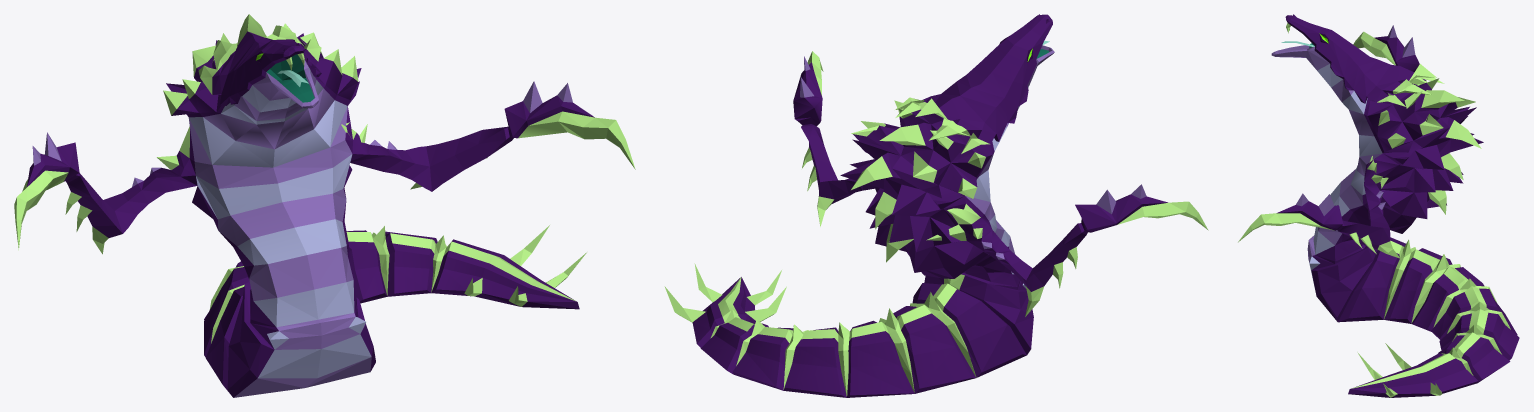
The model's file is Attack (23).obj.
The picture shows the model from 3 angles, left to right: view 1: azimuth 30°, elevation 25°; view 2: azimuth 150°, elevation 25°; view 3: azimuth 270°, elevation 25°; orthographic projection. The views are drawn at different scales.
Visible parts, largest first — view 1: Alien_Serpent; view 2: Alien_Serpent; view 3: Alien_Serpent.
Part boxes in pixels (x1,y1,x2,y2): Alien_Serpent: [14, 14, 635, 397]; Alien_Serpent: [664, 14, 1208, 397]; Alien_Serpent: [1238, 14, 1519, 397].
Size of the model in its own units: 379 by 232 by 219.
1 material, 1 textured.
